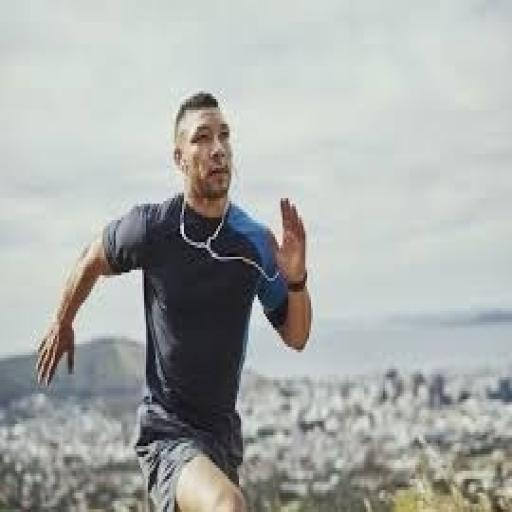running: (34, 88, 315, 509)
